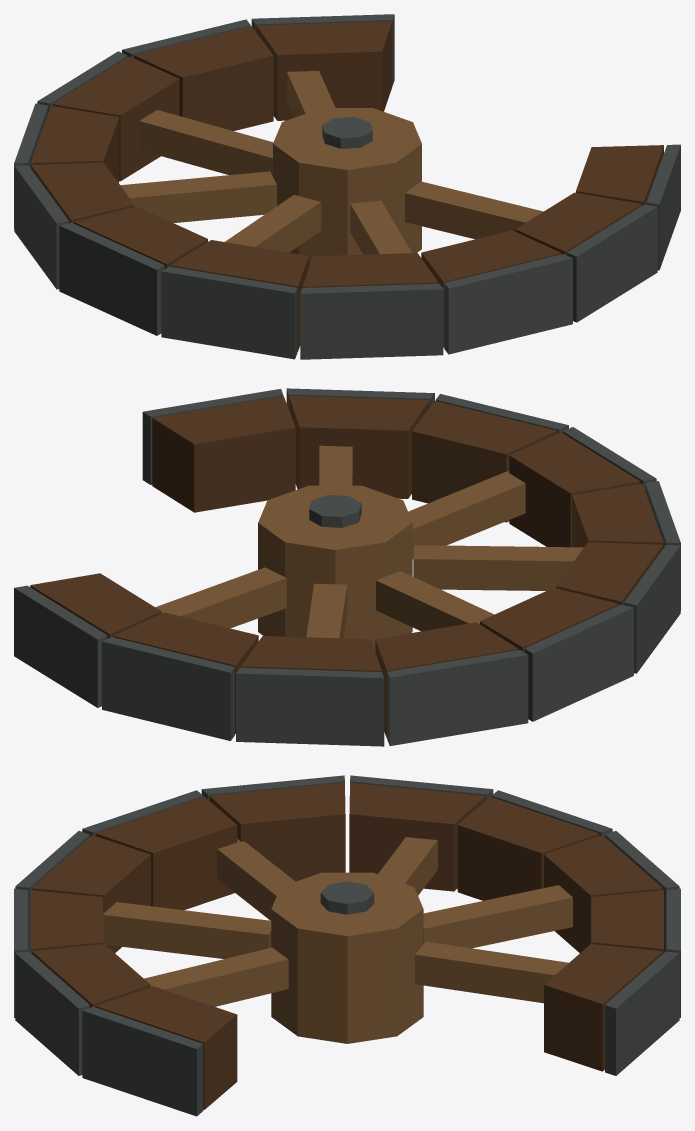
The model's file is broken_wheel.glb.
3 views of the same model, one above another, from view 1: azimuth 30°, elevation 25°; view 2: azimuth 150°, elevation 25°; view 3: azimuth 270°, elevation 25° (orthographic). The views are drawn at different scales.
Visible parts, largest first — view 1: Timber, Metal; view 2: Timber, Metal; view 3: Timber, Metal.
Part boxes in pixels (box(x1,y1,x2,y2)): Timber: box(31, 21, 663, 351); Metal: box(14, 14, 680, 359); Timber: box(30, 395, 663, 738); Metal: box(14, 388, 680, 746); Timber: box(31, 782, 663, 1109); Metal: box(14, 775, 680, 1116).
Bounding box in the file's own units: 1.09 × 0.22 × 1.12.
